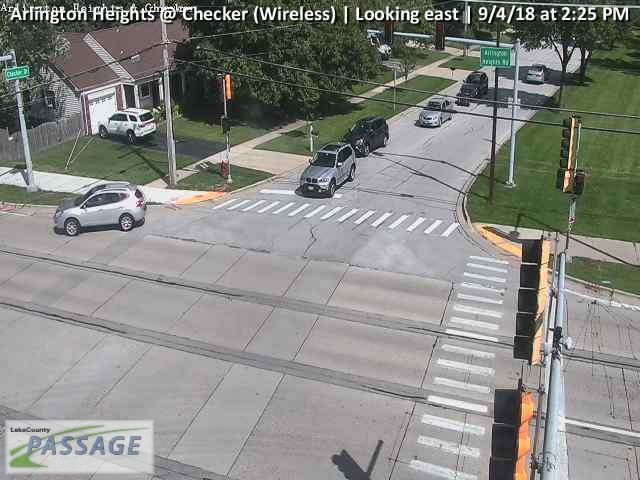SUV: (53, 181, 147, 237), (298, 141, 356, 198), (97, 106, 157, 144), (341, 116, 390, 159), (417, 97, 454, 129), (460, 70, 489, 100), (525, 62, 547, 85)
